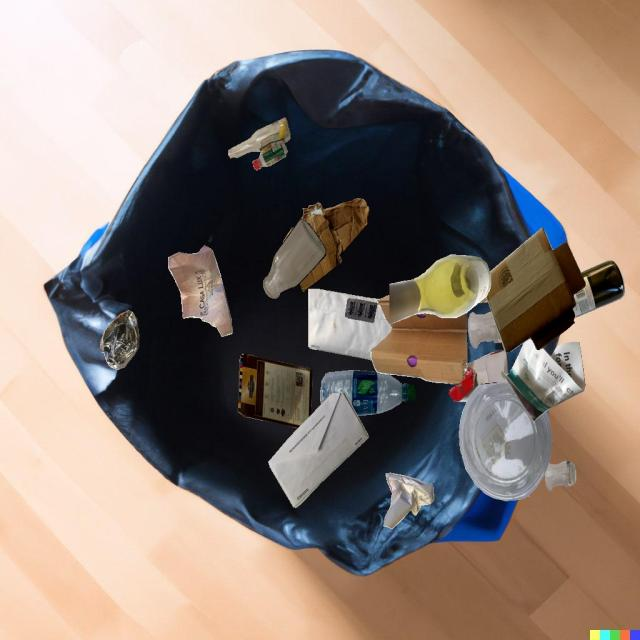cardboard: (486, 228, 585, 352), (371, 295, 468, 384), (282, 198, 369, 292), (238, 354, 312, 428)
glass: (389, 255, 491, 325), (262, 220, 326, 300), (572, 261, 625, 318), (228, 118, 291, 158), (468, 311, 502, 349), (545, 461, 576, 491)
metal: (100, 310, 139, 370)
paper: (268, 393, 369, 508), (501, 338, 585, 421), (308, 289, 391, 360), (168, 245, 232, 337), (449, 350, 509, 402), (383, 473, 434, 529)
plastic: (459, 382, 552, 501), (320, 370, 415, 415), (253, 143, 288, 170), (345, 298, 377, 323)
